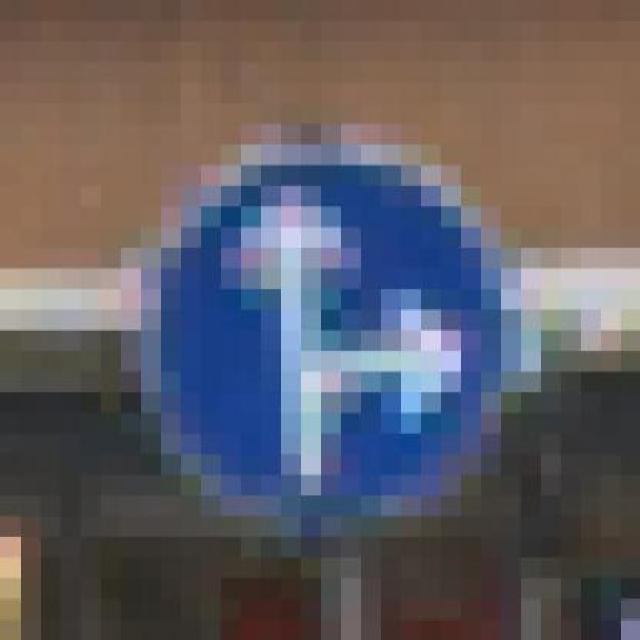Go Straight or Turn Right: (138, 103, 518, 537)
